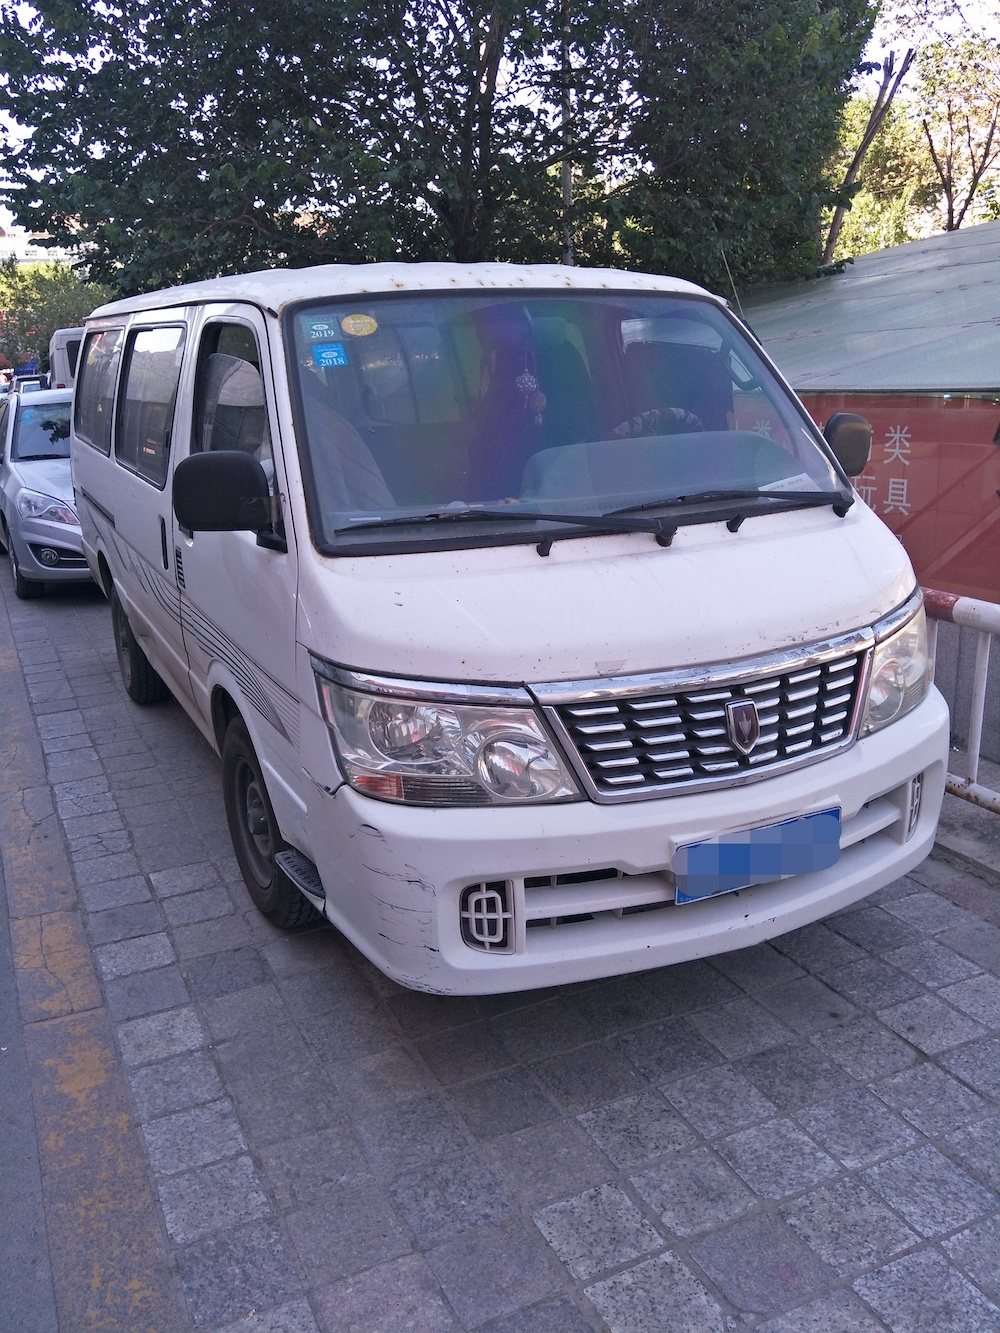minibus: (63, 233, 966, 1026)
